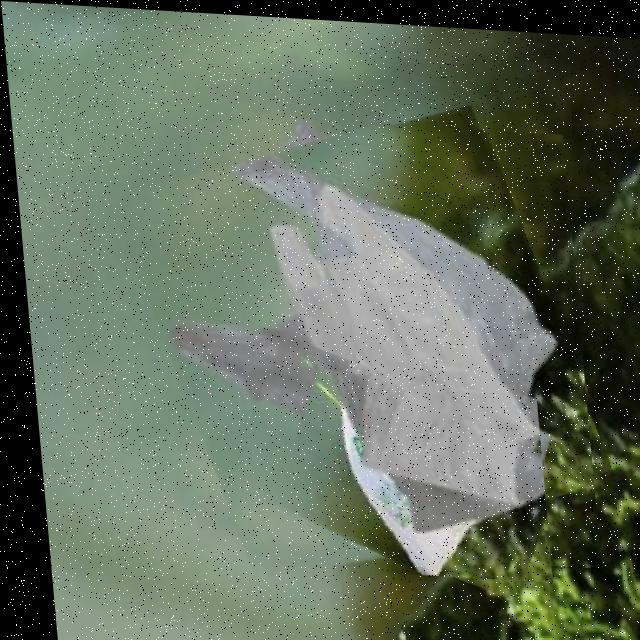plasticcover: (121, 106, 591, 570), (253, 359, 542, 575)
